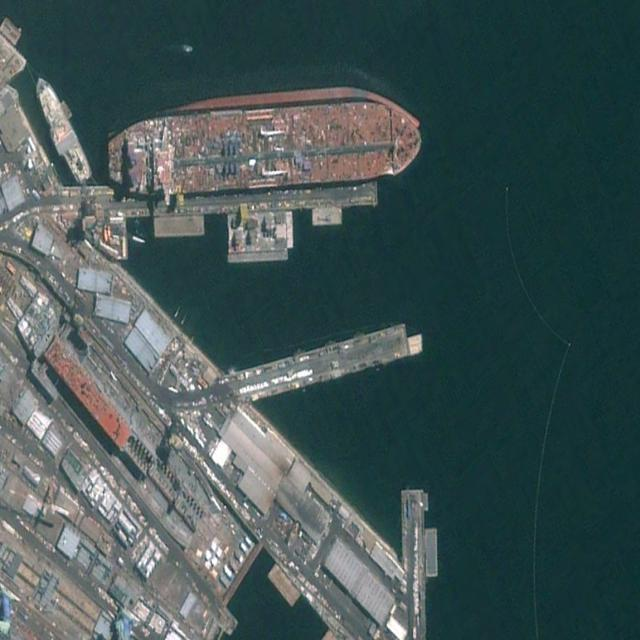Cargo: (106, 78, 423, 201)
Other Ship: (28, 69, 94, 190)
